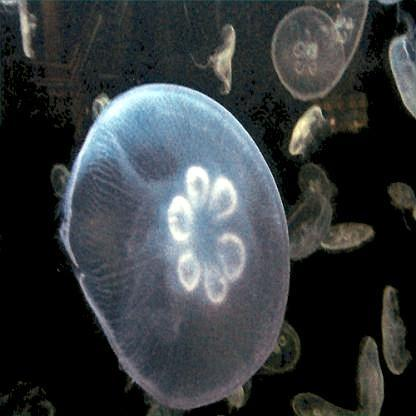Speckle: (60, 82, 289, 406), (270, 5, 344, 103), (188, 24, 236, 94), (287, 193, 334, 261), (380, 287, 414, 377), (327, 3, 368, 73), (389, 9, 415, 118), (284, 106, 330, 159), (358, 333, 385, 413), (261, 325, 299, 373), (7, 378, 58, 412), (290, 389, 352, 415), (322, 222, 374, 251), (387, 183, 415, 231), (16, 0, 36, 64), (299, 165, 330, 201), (51, 164, 71, 200), (93, 90, 109, 122)
